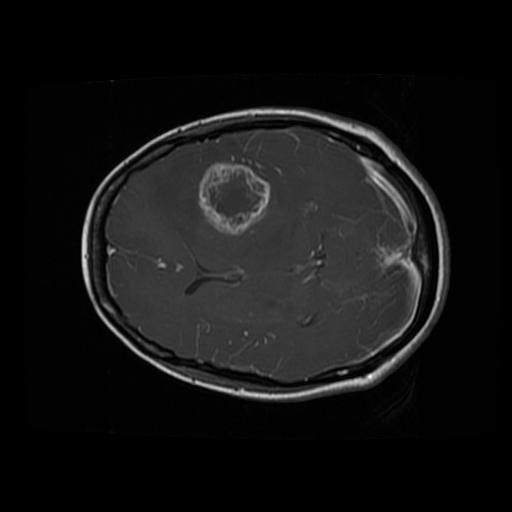glioma: (195, 157, 272, 239)
